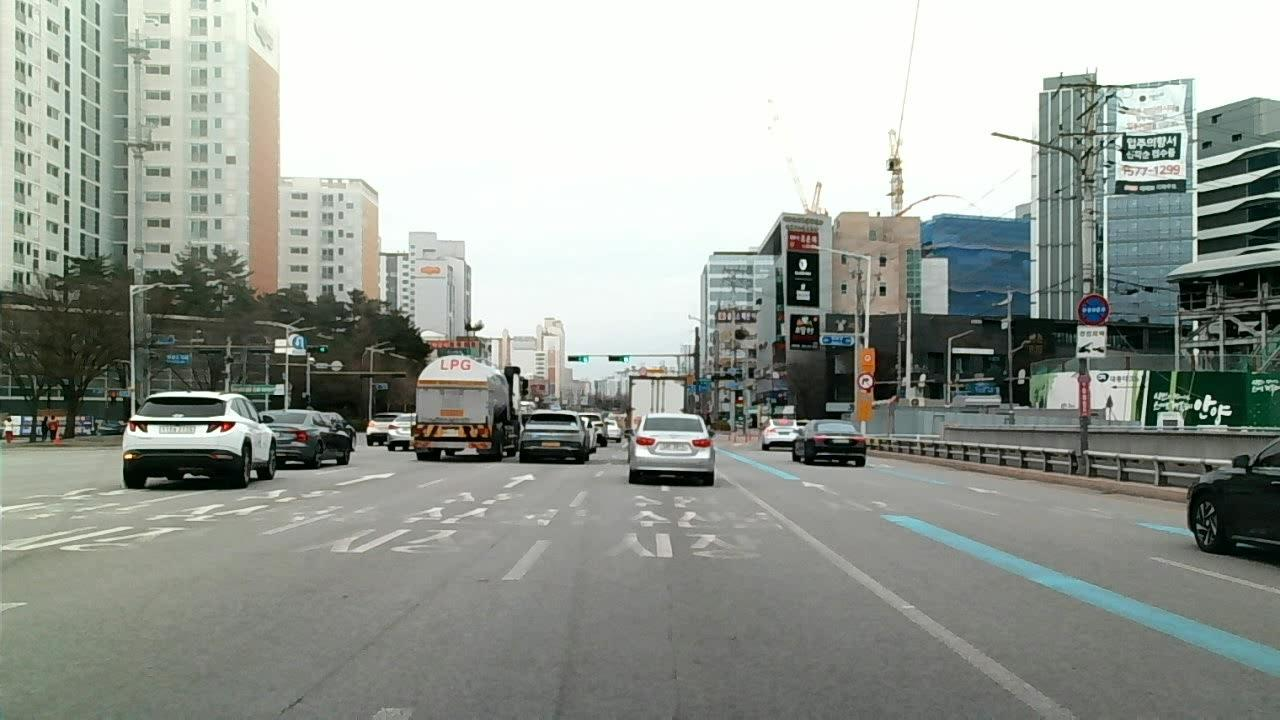vcrack: (267, 634, 380, 718), (661, 567, 688, 720), (383, 574, 451, 625)
